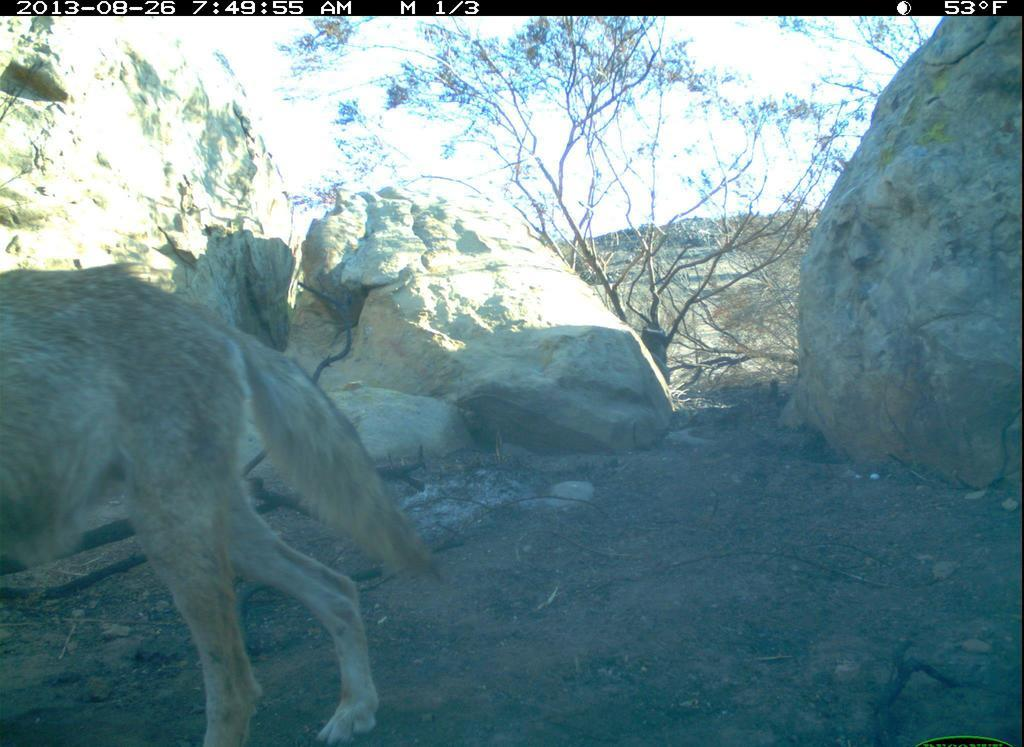coyote: (4, 262, 451, 745)
